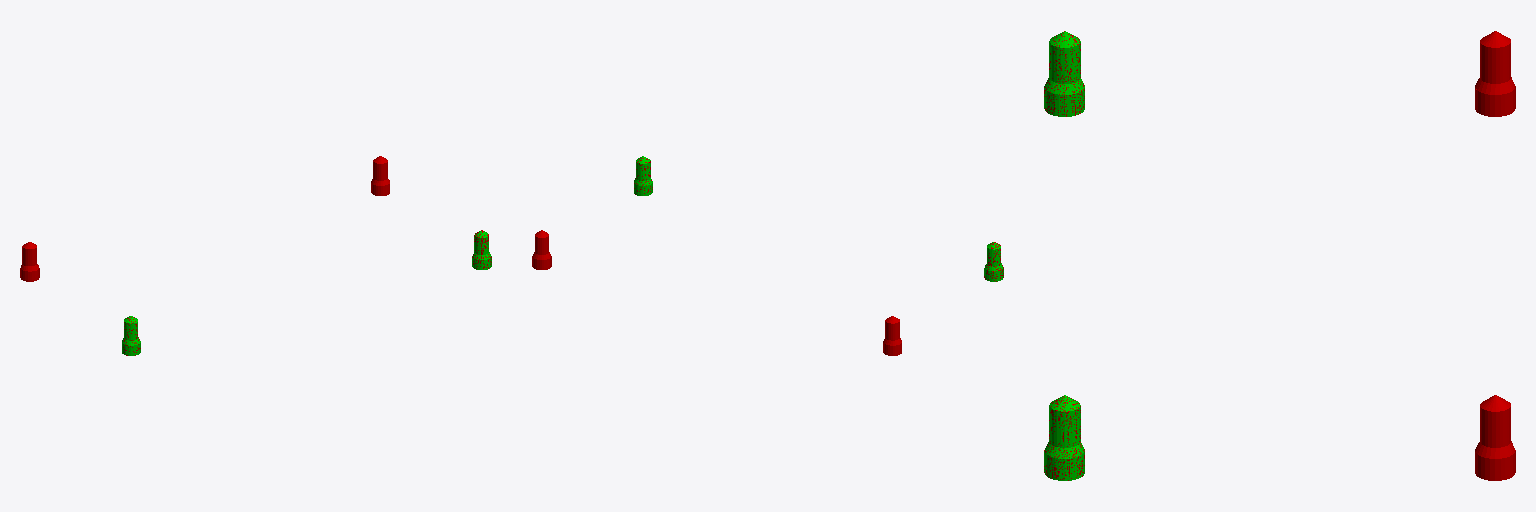
The robot description file, URDF, robot "test1":
<robot name="test1"> 
    <link name="water_surface"/> 
    <joint name="start_green_buoy_joint" type="fixed"> 
        <origin xyz="0 0 0" rpy="0 0 0" /> 
        <parent link="water_surface"/>
        <child link="start_green_buoy"/>
    </joint> 
    <joint name="end_green_buoy_joint" type="fixed"> 
        <origin xyz="0 0 0" rpy="0 0 0" /> 
        <parent link="water_surface"/> 
        <child link="end_green_buoy"/> 
    </joint> 
    <joint name="start_red_buoy_joint" type="fixed"> 
        <origin xyz="0 0 0" rpy="0 0 0" /> 
        <parent link="water_surface"/> 
        <child link="start_red_buoy"/> 
    </joint> 
    <joint name="end_red_buoy_joint" type="fixed"> 
        <origin xyz="0 0 0" rpy="0 0 0" /> 
        <parent link="water_surface"/> 
        <child link="end_red_buoy"/> 
    </joint> 

    <link name="start_green_buoy">
        <inertial>
            <origin xyz="-10 -5 0" />
            <mass value="10.0" />
            <inertia  ixx="1.0" ixy="0.0"  ixz="0.0"  iyy="100.0"  iyz="0.0"  izz="1.0" />
        </inertial>
        <visual>
            <origin xyz="-10 -5 -1"/>
            <geometry>
                <mesh filename="package://robotx_description/meshes/green_buoy_marker.dae" scale="1 1 1" />
            </geometry>
        </visual>
        <collision>
            <origin xyz="-10 -5 0"/>
            <geometry>
                <cylinder length="2" radius="0.5" />
            </geometry>
        </collision>
    </link>
    <link name="end_green_buoy">
        <inertial>
            <origin xyz="10 -5 0" />
            <mass value="10.0" />
            <inertia  ixx="1.0" ixy="0.0"  ixz="0.0"  iyy="100.0"  iyz="0.0"  izz="1.0" />
        </inertial>
        <visual>
            <origin xyz="10 -5 -1"/>
            <geometry>
                <mesh filename="package://robotx_description/meshes/green_buoy_marker.dae" scale="1 1 1" />
            </geometry>
        </visual>
        <collision>
            <origin xyz="10 -5 0"/>
            <geometry>
                <cylinder length="2" radius="0.5" />
            </geometry>
        </collision>
    </link>

    <link name="start_red_buoy">
        <inertial>
            <origin xyz="-10 5 0" />
            <mass value="10.0" />
            <inertia  ixx="1.0" ixy="0.0"  ixz="0.0"  iyy="100.0"  iyz="0.0"  izz="1.0" />
        </inertial>
        <visual>
            <origin xyz="-10 5 -1"/>
            <geometry>
                <mesh filename="package://robotx_description/meshes/red_buoy_marker.dae" scale="1 1 1" />
            </geometry>
        </visual>
        <collision>
            <origin xyz="-10 5 0"/>
            <geometry>
                <cylinder length="2" radius="0.5" />
            </geometry>
        </collision>
    </link>
    <link name="end_red_buoy">
        <inertial>
            <origin xyz="10 5 0" />
            <mass value="10.0" />
            <inertia  ixx="1.0" ixy="0.0"  ixz="0.0"  iyy="100.0"  iyz="0.0"  izz="1.0" />
        </inertial>
        <visual>
            <origin xyz="10 5 -1"/>
            <geometry>
                <mesh filename="package://robotx_description/meshes/red_buoy_marker.dae" scale="1 1 1" />
            </geometry>
        </visual>
        <collision>
            <origin xyz="10 5 0"/>
            <geometry>
                <cylinder length="2" radius="0.5" />
            </geometry>
        </collision>
    </link>

    <gazebo reference="start_green_buoy">
        <material>Gazebo/Green</material>
    </gazebo>
    <gazebo reference="end_green_buoy">
        <material>Gazebo/Green</material>
    </gazebo>
    <gazebo reference="start_red_buoy">
        <material>Gazebo/Red</material>
    </gazebo>
    <gazebo reference="end_red_buoy">
        <material>Gazebo/Red</material>
    </gazebo>
</robot>

--- Facts derived from the render (not from the file) ---
The picture shows the robot from 3 angles, left to right: view 1: azimuth 30°, elevation 25°; view 2: azimuth 150°, elevation 25°; view 3: azimuth 270°, elevation 25°; orthographic projection.
Robot: test1 — 5 links, 4 joints (4 fixed); root link water_surface; default pose: all joints at 0.
Links seen in each view (by area): view 1: start_red_buoy, end_green_buoy, end_red_buoy, start_green_buoy; view 2: start_red_buoy, end_green_buoy, start_green_buoy, end_red_buoy; view 3: start_green_buoy, end_green_buoy, end_red_buoy, start_red_buoy.
Link boxes in pixels (left/top/right/bottom): start_red_buoy: left=20, top=242, right=39, bottom=281; end_green_buoy: left=472, top=230, right=491, bottom=269; end_red_buoy: left=371, top=156, right=389, bottom=195; start_green_buoy: left=122, top=316, right=140, bottom=355; start_red_buoy: left=883, top=316, right=901, bottom=355; end_green_buoy: left=634, top=156, right=652, bottom=195; start_green_buoy: left=984, top=242, right=1003, bottom=281; end_red_buoy: left=532, top=230, right=551, bottom=269; start_green_buoy: left=1044, top=31, right=1084, bottom=116; end_green_buoy: left=1044, top=395, right=1084, bottom=480; end_red_buoy: left=1475, top=395, right=1515, bottom=480; start_red_buoy: left=1475, top=31, right=1515, bottom=116.
Size in the robot's own frame: 20.94 by 10.94 by 1.99 metres.
4 mesh visuals loaded from 2 distinct referenced files (2 Collada DAE).